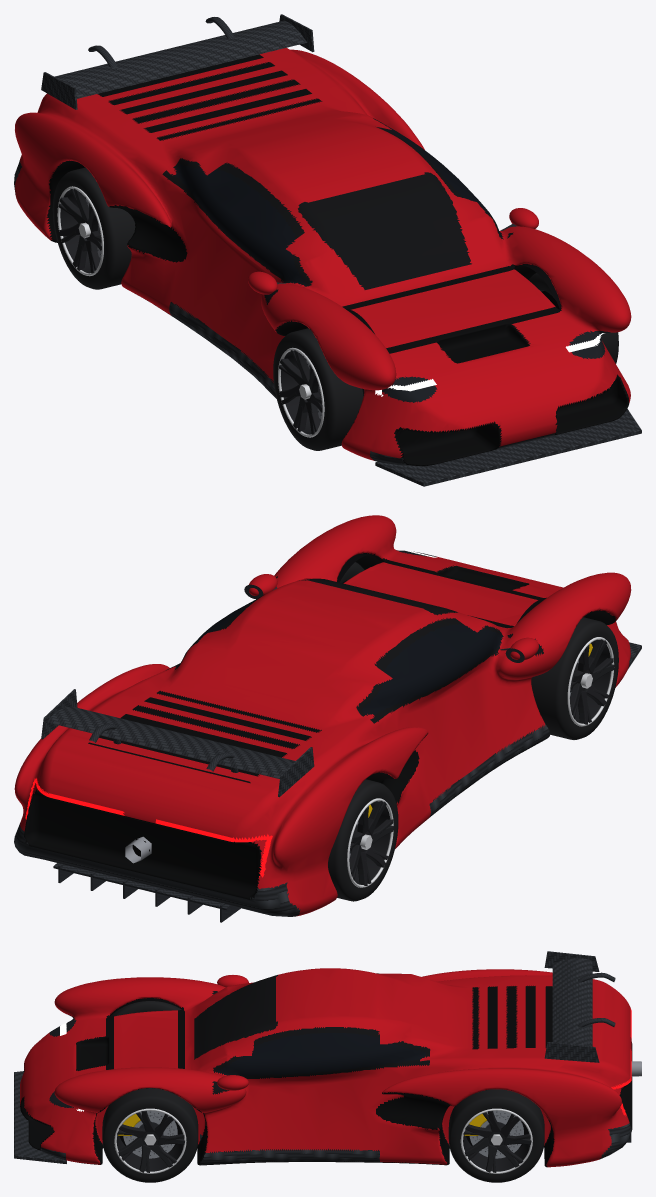
Rendered from original_exotic_supercar_v4.glb.
3 renders of one model, top to bottom at view 1: azimuth 30°, elevation 25°; view 2: azimuth 150°, elevation 25°; view 3: azimuth 270°, elevation 25°, orthographic. The views are drawn at different scales.
Visible parts, largest first — view 1: Body_Paint, Intakes_And_Vents, Window_Trim, Active_Rear_Wing, Body_Glass, Front_Splitter, Wheel_FR_Tyre, Wheel_RR_Tyre, Wheel_FR_Rim, Wheel_RR_Rim, Body_Carbon, Headlight_Housings (+2 smaller); view 2: Body_Paint, Intakes_And_Vents, Active_Rear_Wing, Body_Glass, Body_Carbon, Wheel_FR_Tyre, Window_Trim, Wheel_RR_Tyre, Wheel_RR_Rim, Wheel_FR_Rim, Taillight_LEDs, Rear_Diffuser (+4 smaller); view 3: Body_Paint, Intakes_And_Vents, Window_Trim, Body_Glass, Active_Rear_Wing, Wheel_FL_Tyre, Wheel_RL_Tyre, Body_Carbon, Wheel_RL_Rim, Wheel_FL_Rim, Front_Splitter, Wheel_RL_BrakeDisc (+5 smaller).
Boxes of the visible parts, x1,y1,x2,y2 form: Body_Paint: (15,48,631,460); Intakes_And_Vents: (46,54,628,465); Window_Trim: (162,118,513,304); Active_Rear_Wing: (41,14,314,109); Body_Glass: (174,123,509,297); Front_Splitter: (375,409,641,486); Wheel_FR_Tyre: (273,328,363,450); Wheel_RR_Tyre: (52,167,135,289); Wheel_FR_Rim: (279,350,322,434); Wheel_RR_Rim: (58,188,101,273); Body_Carbon: (14,160,629,466); Headlight_Housings: (382,330,616,402); Body_Paint: (14,515,631,916); Intakes_And_Vents: (24,553,628,899); Active_Rear_Wing: (41,689,314,797); Body_Glass: (175,599,510,715); Body_Carbon: (14,660,629,916); Wheel_FR_Tyre: (531,617,618,739); Window_Trim: (166,576,543,723); Wheel_RR_Tyre: (328,779,398,901); Wheel_RR_Rim: (349,800,393,885); Wheel_FR_Rim: (570,639,614,724); Taillight_LEDs: (25,778,272,877); Rear_Diffuser: (53,863,230,910); Body_Paint: (20,968,631,1167); Intakes_And_Vents: (20,985,632,1167); Window_Trim: (194,973,430,1094); Body_Glass: (216,973,426,1089); Active_Rear_Wing: (544,951,615,1062); Wheel_FL_Tyre: (102,1088,198,1182); Wheel_RL_Tyre: (448,1089,544,1182); Body_Carbon: (38,1044,632,1164); Wheel_RL_Rim: (463,1111,531,1172); Wheel_FL_Rim: (116,1111,184,1172); Front_Splitter: (14,1071,66,1163); Wheel_RL_BrakeDisc: (469,1110,523,1158).
Size of the model in its own units: 1.99 by 1.13 by 4.71.
15 materials, 2 textured.
